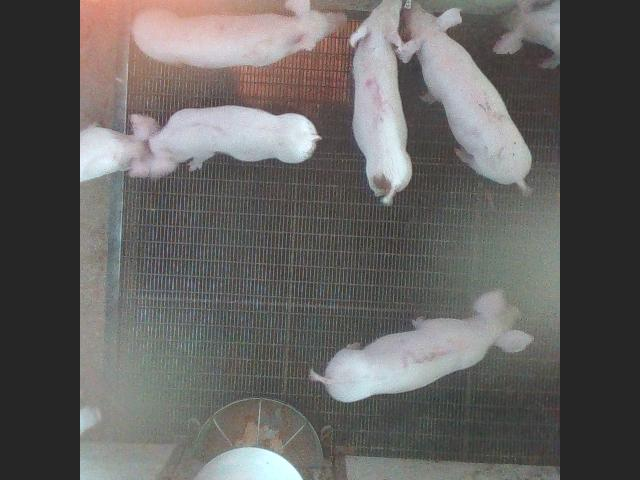pig-3: (310, 289, 532, 401)
pig-5: (350, 0, 411, 204)
